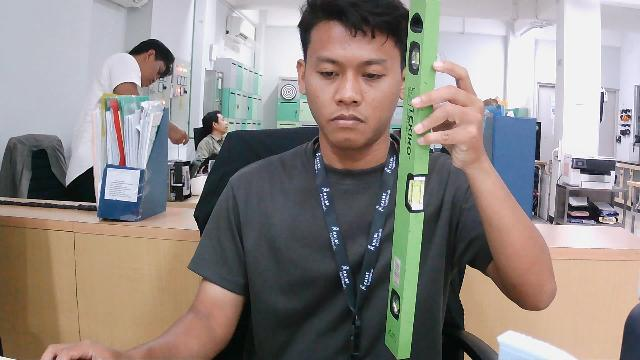water_pass: (373, 0, 456, 360)
